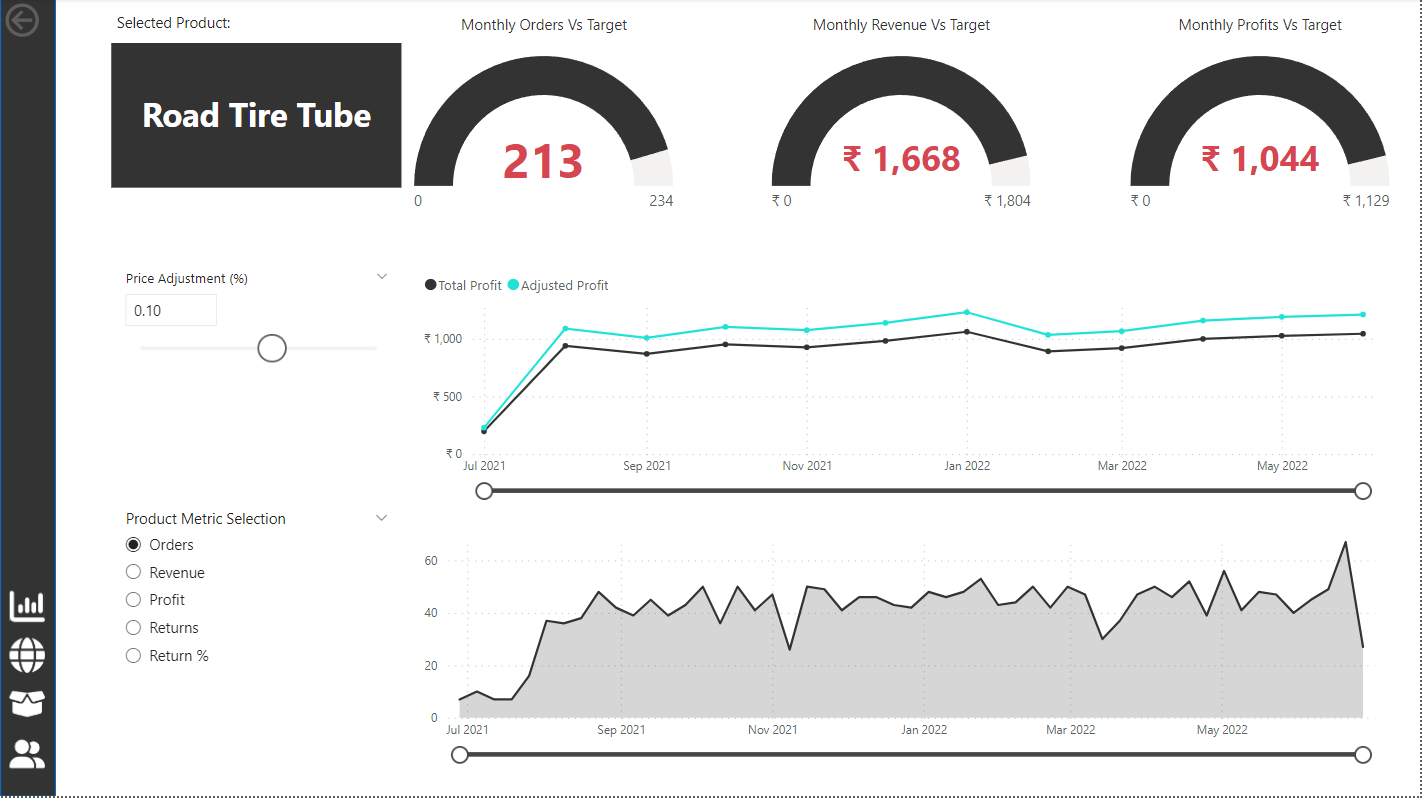

The page's visual inventory and layout, read from the dashboard file:
{"tool":"powerbi","page":{"name":"Product Details","canvas":[1280,720],"ordinal":2},"visuals":[{"type":"shape","title":"Left Nav Background","box":[0,0,50,720],"z":0},{"type":"actionButton","box":[5,528.8,50,40],"z":0,"group":"g1"},{"type":"gauge","title":"Monthly Orders Vs Target","fields":{"Y":["Measure Table.Total Orders"],"MaxValue":["Measure Table.Order Target"]},"box":[368.8,15,243.8,202.5],"z":1000},{"type":"actionButton","box":[5,573,50,40],"z":1000,"group":"g1"},{"type":"gauge","title":"Monthly Revenue Vs Target","fields":{"Y":["Measure Table.Total Revenue"],"MaxValue":["Measure Table.Revenue Target"]},"box":[691.2,15,243.8,202.5],"z":2000},{"type":"actionButton","box":[5,617.1,50,40],"z":2000,"group":"g1"},{"type":"gauge","title":"Monthly Profits Vs Target","fields":{"Y":["Measure Table.Total Profit"],"MaxValue":["Measure Table.Profit Target"]},"box":[1013.8,15,243.8,202.5],"z":3000},{"type":"actionButton","box":[5,661.3,50,40],"z":3000,"group":"g1"},{"type":"lineChart","title":"Profits Trending","fields":{"Category":["Calendar Lookup.Date Hierarchy.Start of Year","Calendar Lookup.Date Hierarchy.Start of Month","Calendar Lookup.Date Hierarchy.Start of Week","Calendar Lookup.Date Hierarchy.Date"],"Y":["Measure Table.Total Profit","Measure Table.Adjusted Profit"]},"box":[377.7,238.4,880.1,216.4],"z":4000},{"type":"areaChart","title":"Returns Trending","fields":{"Y":["Measure Table.Total Orders"],"Category":["Calendar Lookup.Date Hierarchy.Start of Year","Calendar Lookup.Date Hierarchy.Start of Month","Calendar Lookup.Date Hierarchy.Start of Week","Calendar Lookup.Date Hierarchy.Date"]},"box":[377.7,476.7,880.1,216.4],"z":5000},{"type":"card","fields":{"Values":["Min(Product Lookup.ProductName)"]},"box":[100.2,40.3,261.6,130.8],"z":6000},{"type":"actionButton","box":[0,0,100,40],"z":7000},{"type":"textbox","box":[100.2,7.3,259.2,33],"z":8000},{"type":"group","id":"g1","title":"Navigation Buttons","box":[5,528.8,50,172.5],"z":9000},{"type":"slicer","fields":{"Values":["Price Adjustment (%).Price Adjustment (%)"]},"box":[100.2,238.4,261.6,122.2],"z":10000},{"type":"slicer","fields":{"Values":["Product Metric Selection.Product Metric Selection"]},"box":[100.2,454.7,261.6,238.4],"z":11000}]}

Visuals, with their boxes on the page's 1280x720 design canvas (x1, y1, x2, y2). These are canvas units, not pixel positions in the 1423x798 screenshot, which may show the page scaled, cropped or inside an application window:
"Left Nav Background" shape: left=0, top=0, right=50, bottom=720
actionButton: left=5, top=529, right=55, bottom=569
"Monthly Orders Vs Target" gauge: left=369, top=15, right=613, bottom=218
actionButton: left=5, top=573, right=55, bottom=613
"Monthly Revenue Vs Target" gauge: left=691, top=15, right=935, bottom=218
actionButton: left=5, top=617, right=55, bottom=657
"Monthly Profits Vs Target" gauge: left=1014, top=15, right=1258, bottom=218
actionButton: left=5, top=661, right=55, bottom=701
"Profits Trending" lineChart: left=378, top=238, right=1258, bottom=455
"Returns Trending" areaChart: left=378, top=477, right=1258, bottom=693
card - Min(Product Lookup.ProductName): left=100, top=40, right=362, bottom=171
actionButton: left=0, top=0, right=100, bottom=40
textbox: left=100, top=7, right=359, bottom=40
"Navigation Buttons" group: left=5, top=529, right=55, bottom=701
slicer - Price Adjustment (%).Price Adjustment (%): left=100, top=238, right=362, bottom=361
slicer - Product Metric Selection.Product Metric Selection: left=100, top=455, right=362, bottom=693
